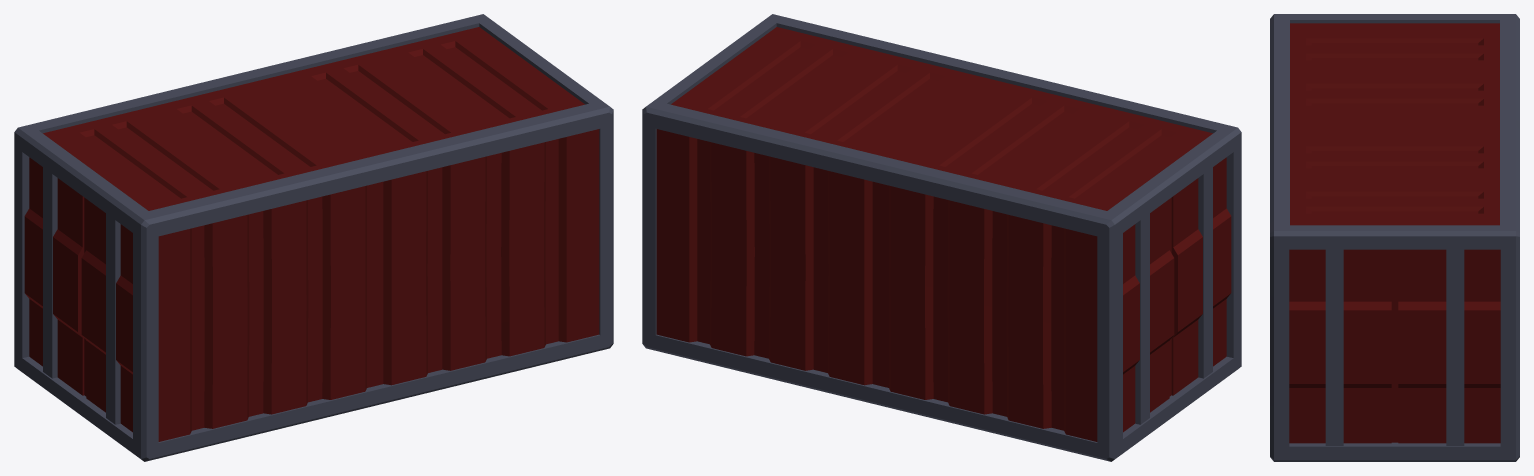
3 renders of one model, left to right at view 1: azimuth 30°, elevation 25°; view 2: azimuth 150°, elevation 25°; view 3: azimuth 270°, elevation 25°, orthographic. The views are drawn at different scales.
Visible parts, largest first — view 1: Container_Long_Cube.086; view 2: Container_Long_Cube.086; view 3: Container_Long_Cube.086.
Boxes of the visible parts, left/top/right/bottom form: Container_Long_Cube.086: left=14, top=14, right=613, bottom=461; Container_Long_Cube.086: left=642, top=14, right=1241, bottom=461; Container_Long_Cube.086: left=1270, top=14, right=1519, bottom=461.
Size of the model in its own units: 893 by 436 by 428.
